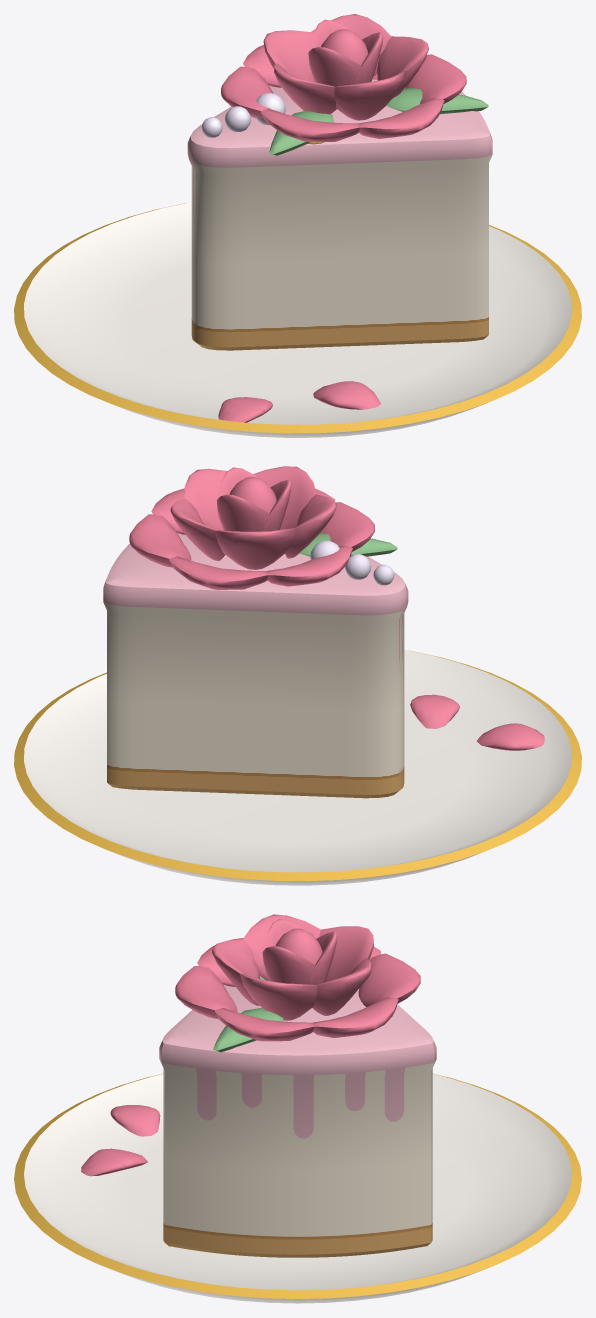
File: RoseCheesecake.glb
The picture shows the model from 3 angles, top to bottom: view 1: azimuth 30°, elevation 25°; view 2: azimuth 150°, elevation 25°; view 3: azimuth 270°, elevation 25°; orthographic projection.
Parts seen in each view (by area): view 1: RoseCheesecake; view 2: RoseCheesecake; view 3: RoseCheesecake.
Part boxes in pixels (box(x1,y1,x2,y2)): RoseCheesecake: box(14, 14, 581, 437); RoseCheesecake: box(14, 466, 581, 885); RoseCheesecake: box(14, 914, 581, 1303).
Size of the model in its own units: 1.72 by 0.996 by 1.72.
Materials: 6 (6 with a texture image).
